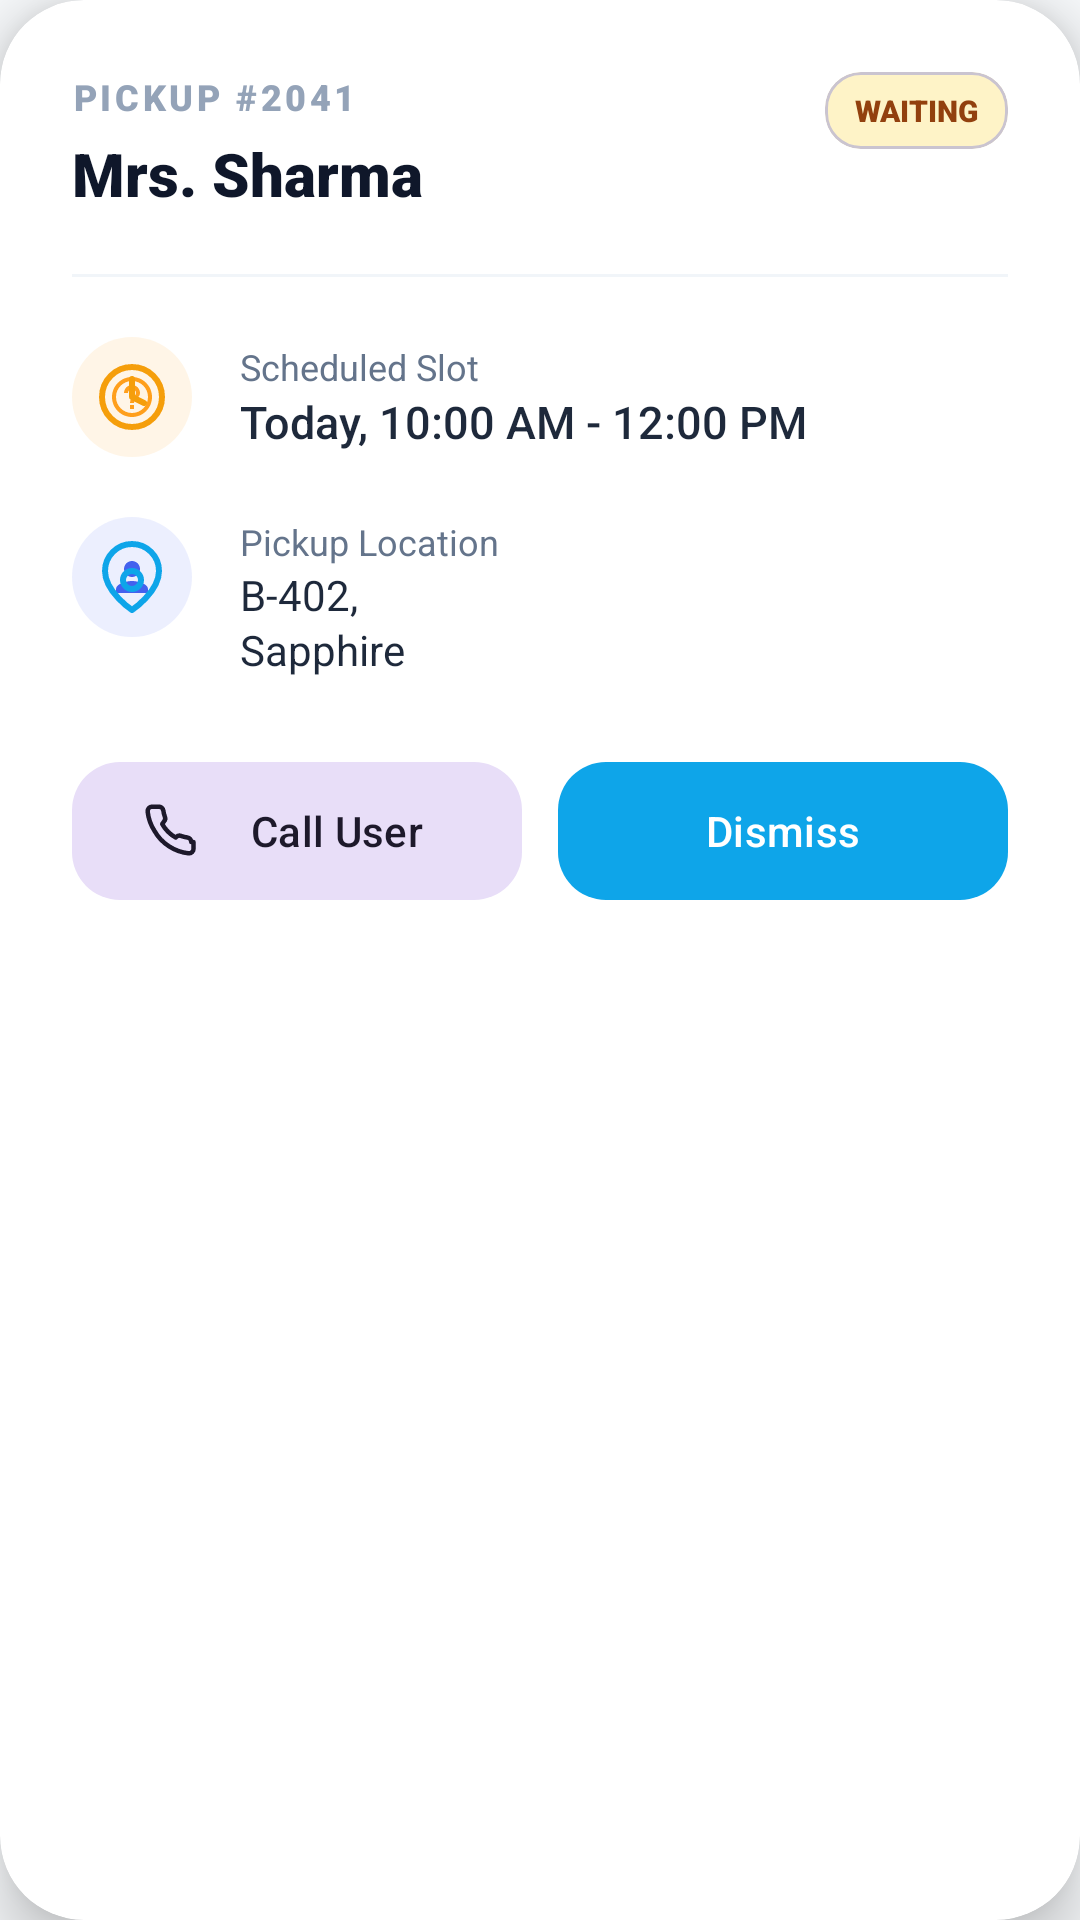

Named icons in this screenshot (1080px×1920px) and their centers, (x,y):
clock: (132,397)
pin: (132,577)
